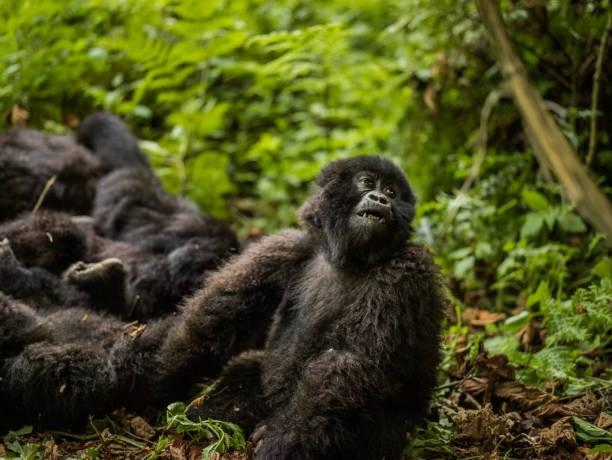goriile_montagne: (220, 153, 462, 440)
